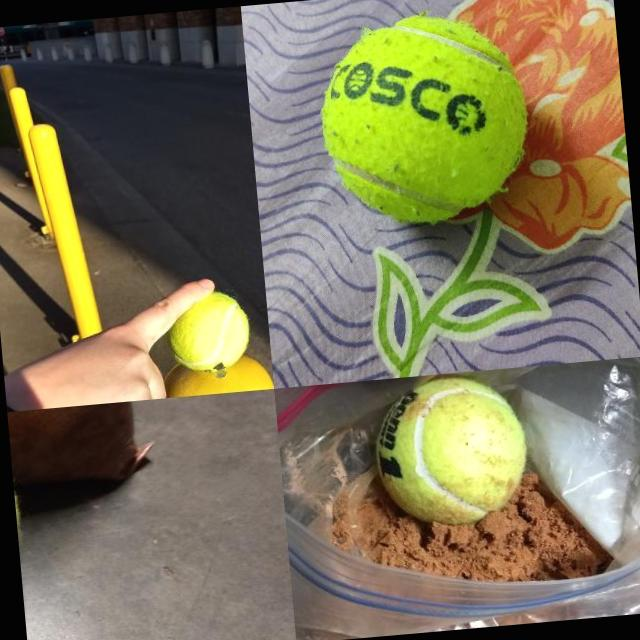Tennis Ball: (312, 6, 536, 232), (369, 369, 534, 532), (163, 290, 252, 376)
